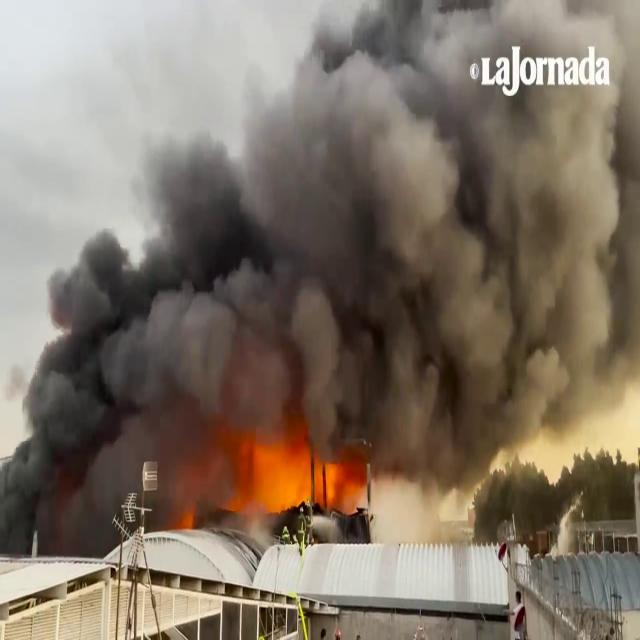Fire: (238, 428, 376, 521)
Smoke: (1, 1, 640, 521)
